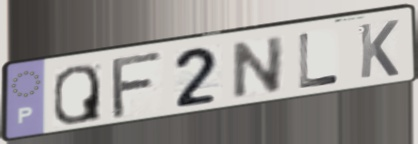2: (172, 44, 225, 112)
F: (109, 49, 167, 122)
K: (357, 18, 401, 81)
L: (296, 30, 341, 91)
N: (230, 33, 287, 102)
Q: (51, 62, 104, 126)
